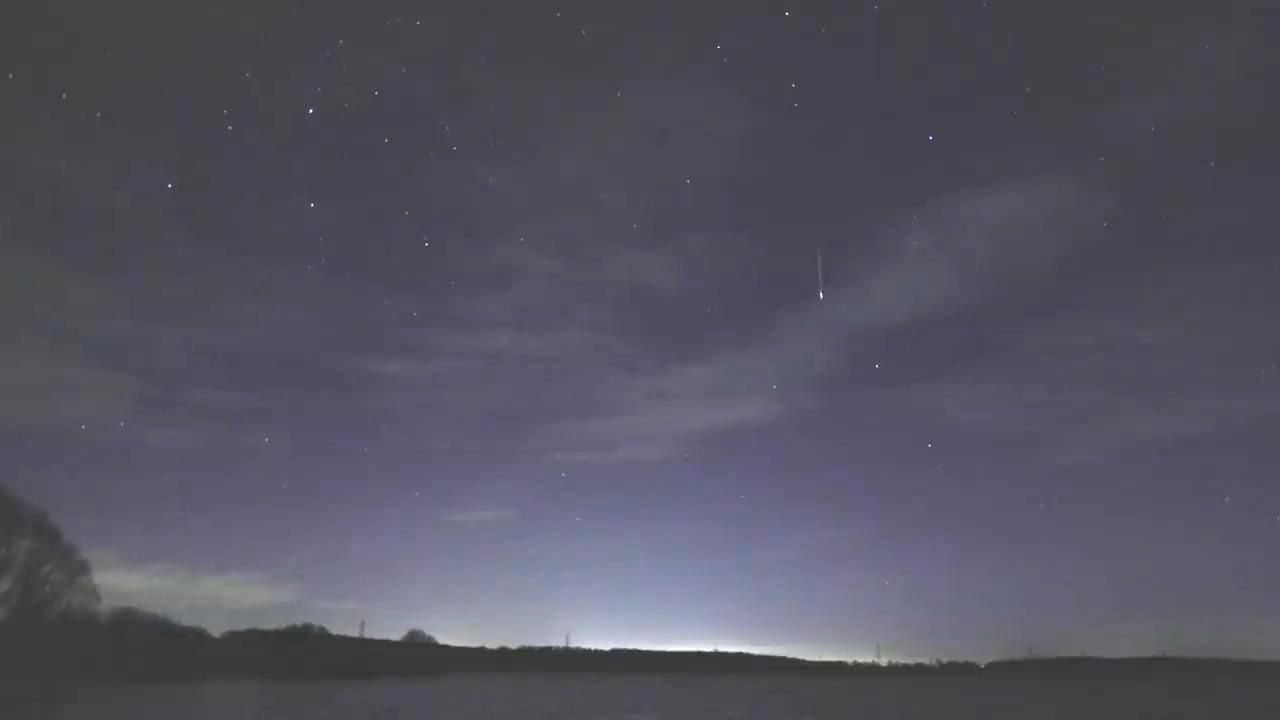meteorite: (784, 246, 851, 308)
